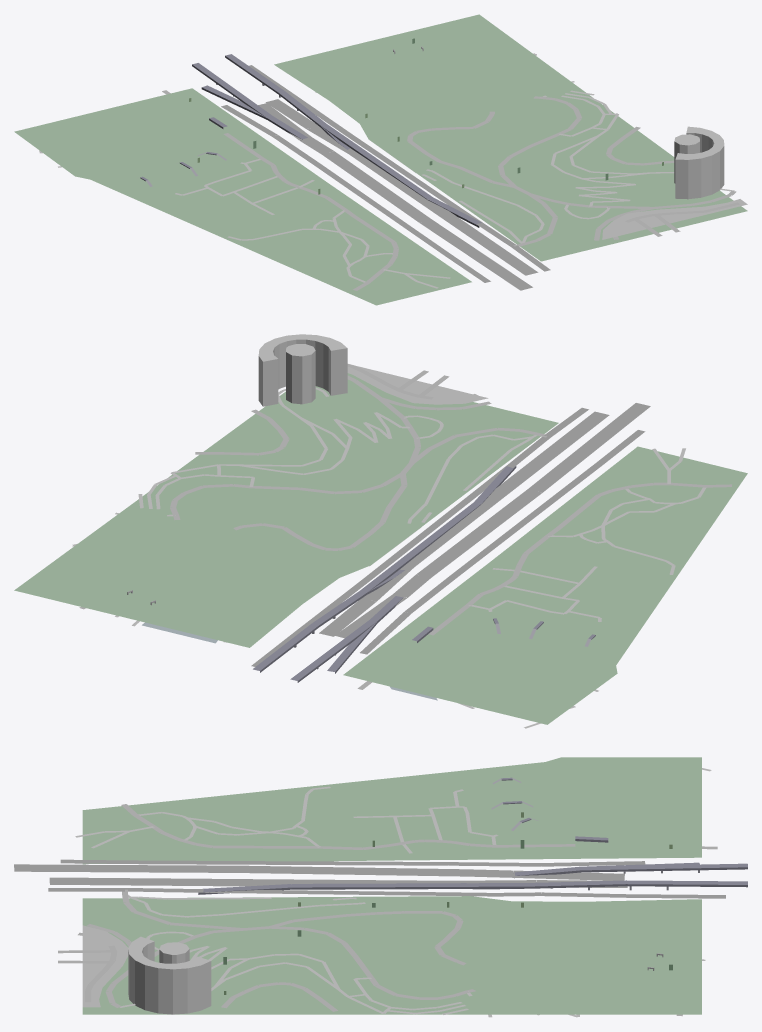
3 views of the same model, one above another, from view 1: azimuth 30°, elevation 25°; view 2: azimuth 150°, elevation 25°; view 3: azimuth 270°, elevation 25° (orthographic). The views are drawn at different scales.
Size of the model in its own units: 512 by 56.26 by 593.
